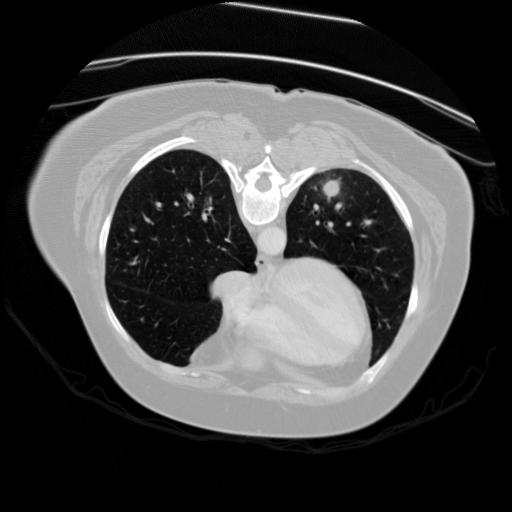nodule: (318, 176, 344, 202)
